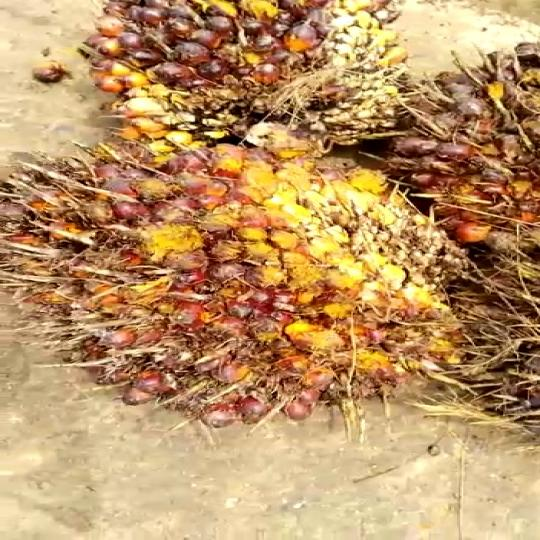masak: (0, 143, 494, 405), (47, 0, 425, 145)
